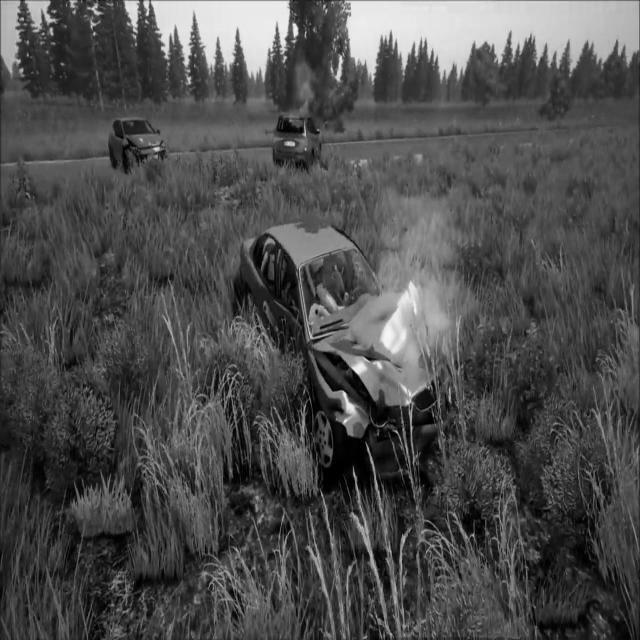accident: (229, 209, 470, 493)
vehicle: (109, 115, 169, 177), (271, 112, 323, 166)
